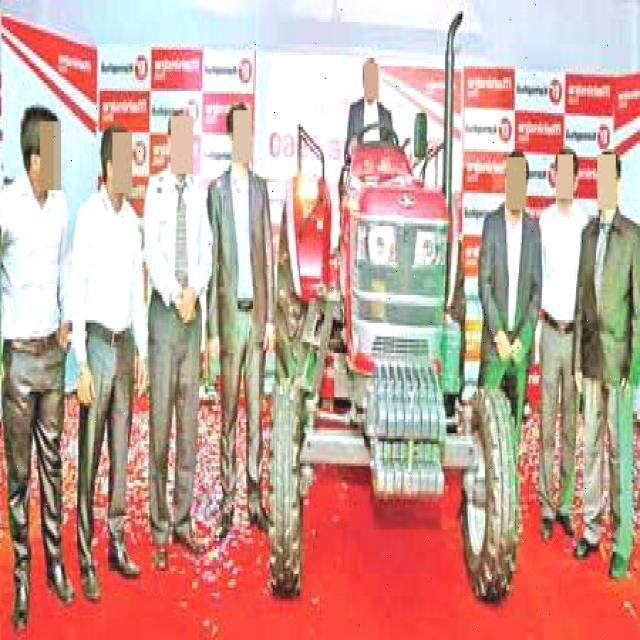Tratores - v5 YOLO V8L 2024-11-13: (249, 0, 527, 600)
